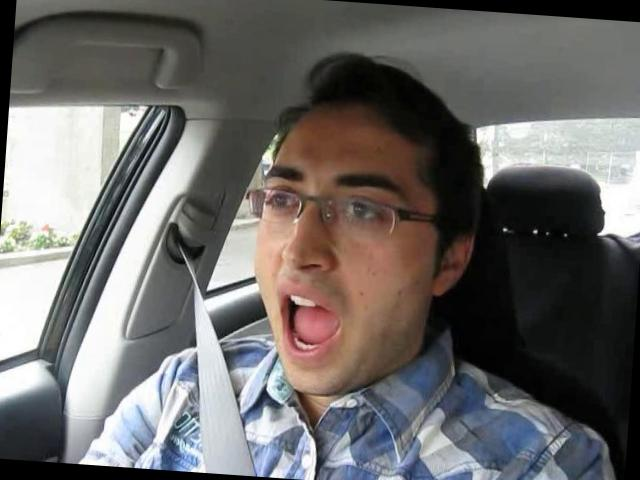eye_open: (335, 196, 390, 230), (264, 185, 302, 216)
face: (242, 139, 434, 403)
mouth_open: (276, 285, 344, 360)
